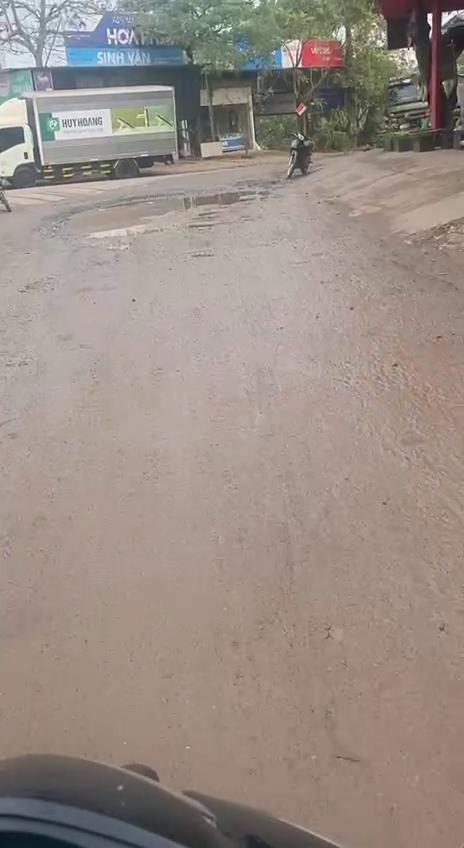pothole: (42, 181, 284, 247)
